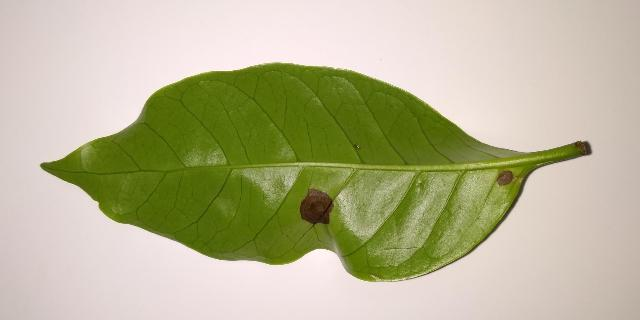rust: (300, 189, 333, 225), (498, 171, 514, 185)
